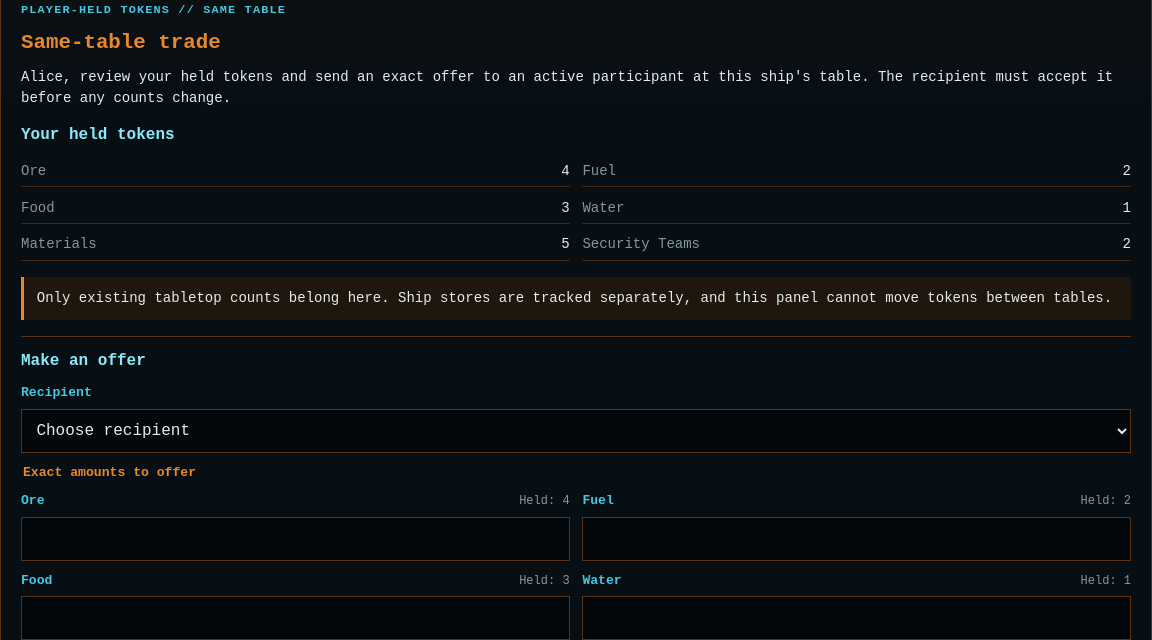
Test case: reuses one offer ID after a retry and submits only the exact player-entered quantity
Select "Bob" in the dropdown labelled "Recipient" at (576, 430), box [21, 408, 1131, 452]
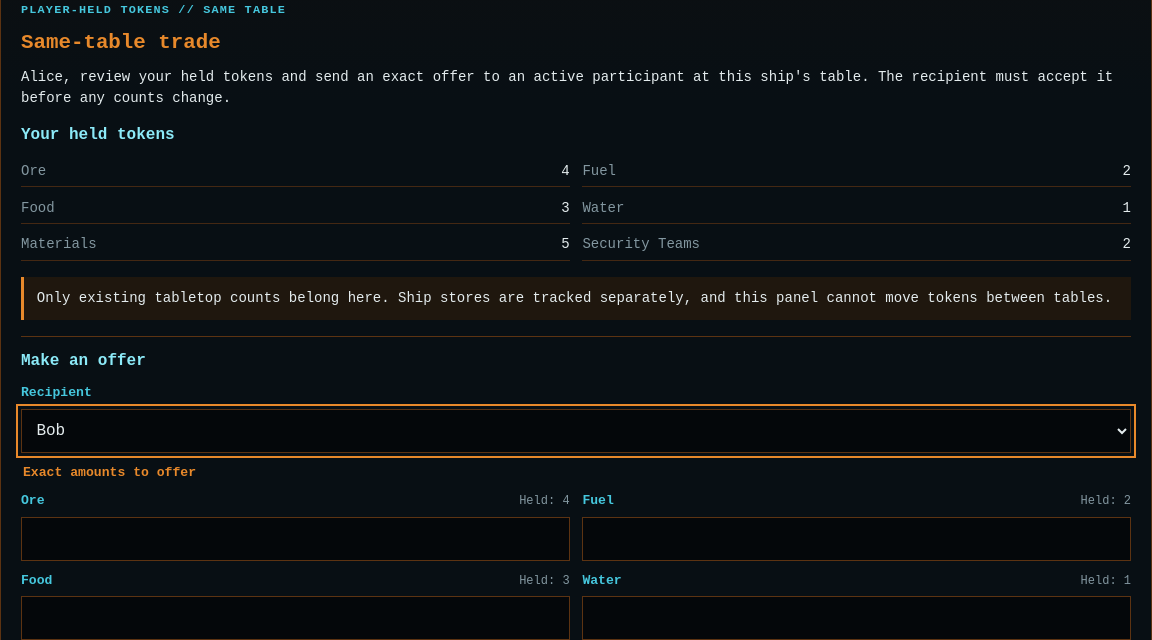
Type "1" into the number field named "Ore amount" at (295, 539), box [21, 517, 570, 561]
(page scrolled)
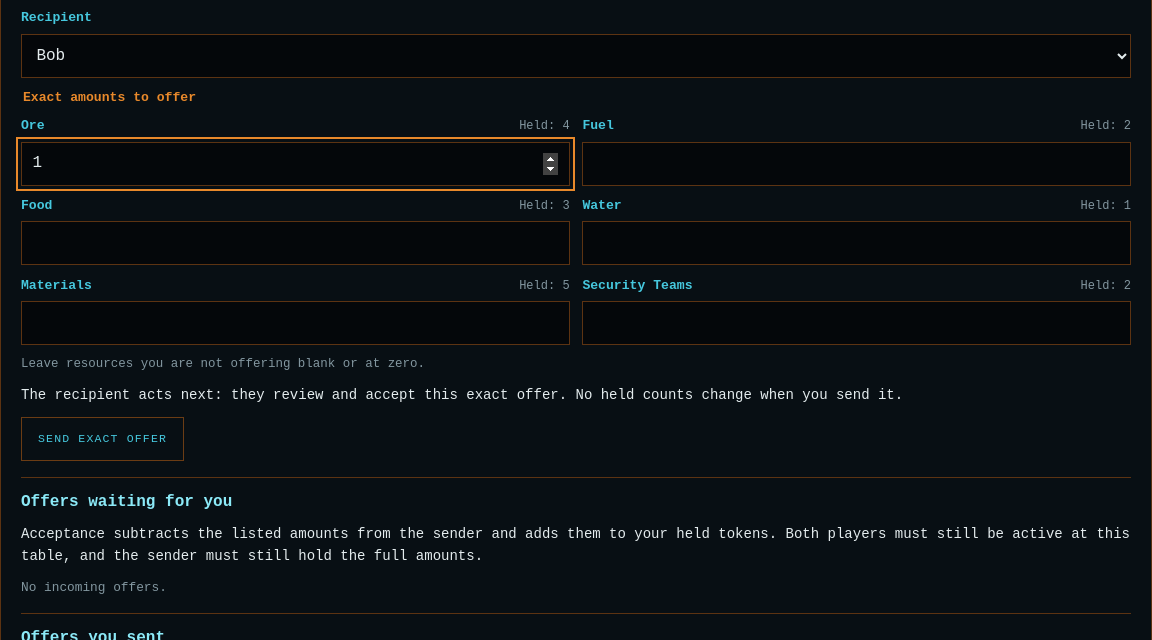
Click the button "Send exact offer" at (102, 439), box [21, 417, 184, 461]
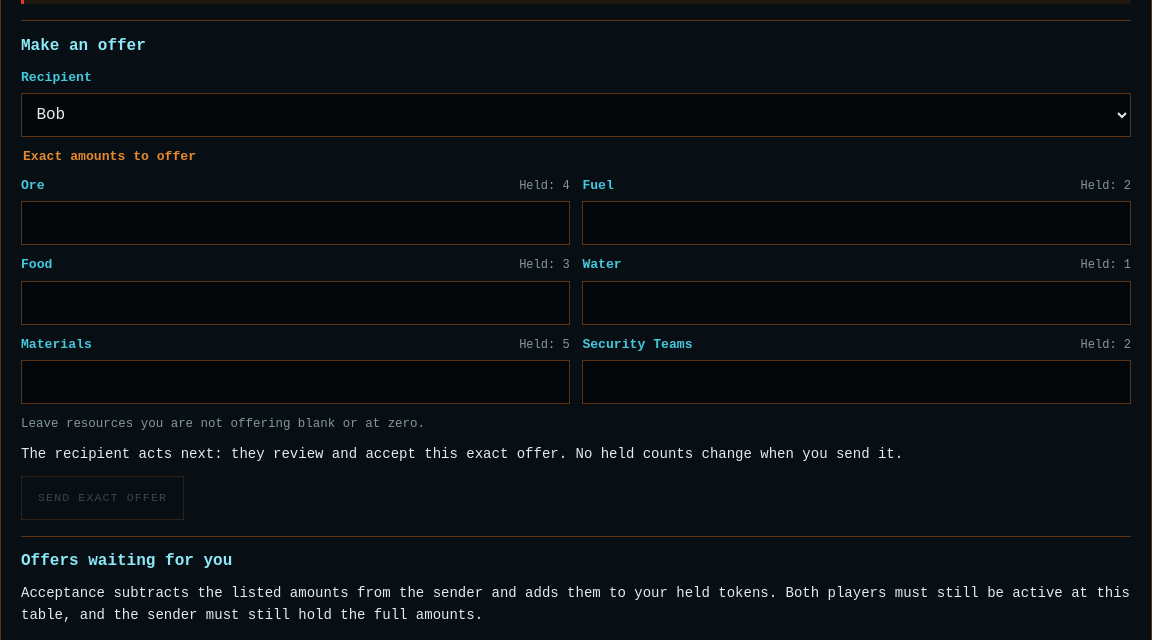
Type "1" into the number field named "Ore amount" at (295, 223), box [21, 201, 570, 245]
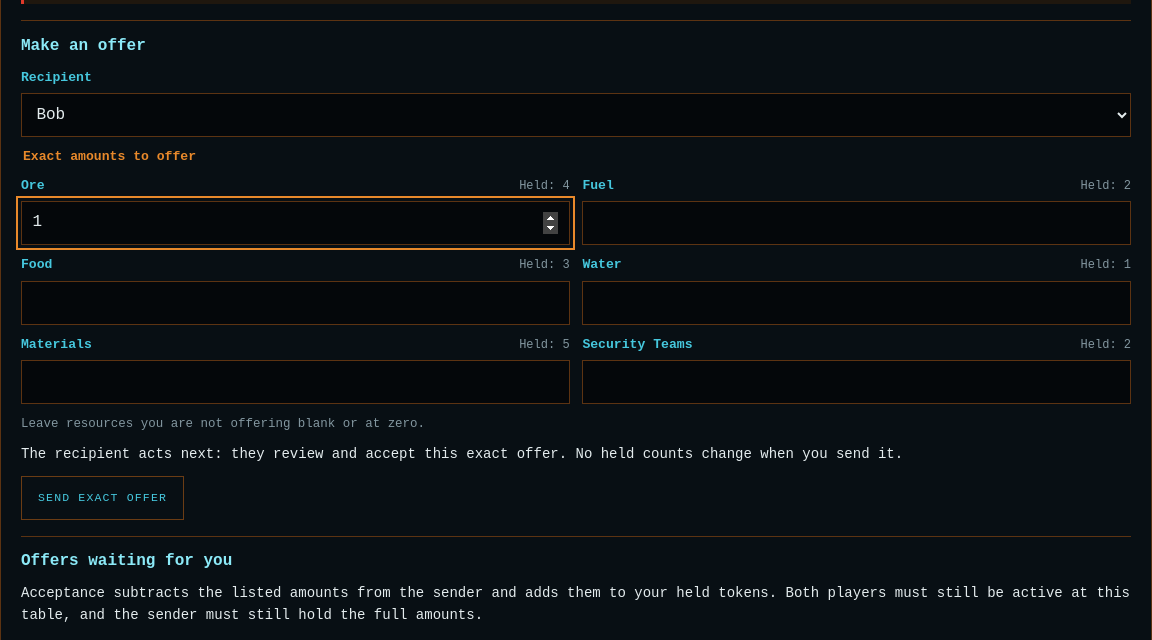
Click the button "Send exact offer" at (102, 498), box [21, 476, 184, 520]
(page scrolled)
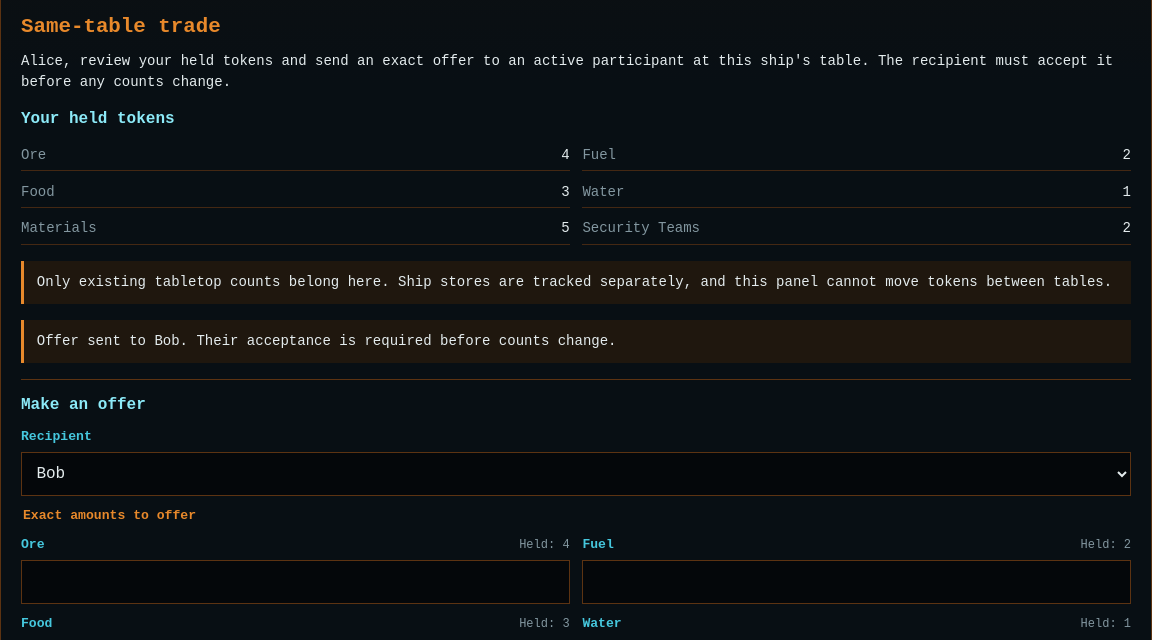
Check: the message shows "Offer sent to Bob", box [37, 333, 616, 349]
